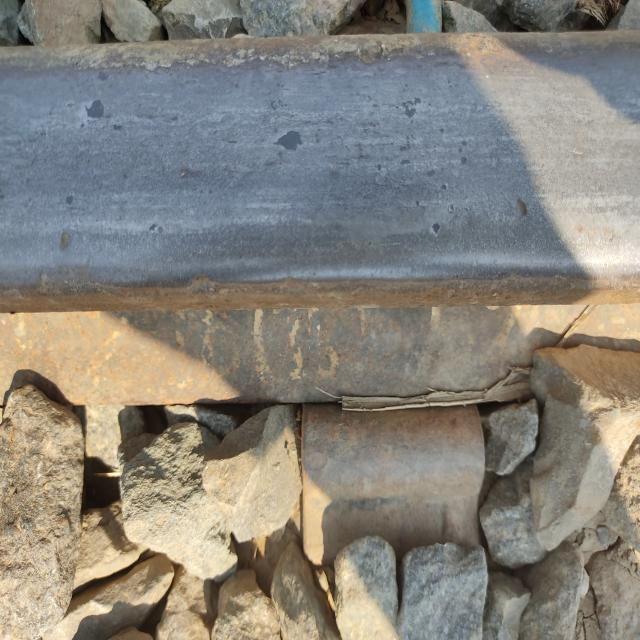fault: (290, 386, 490, 575)
